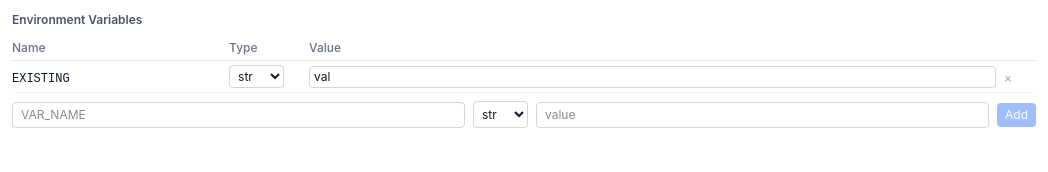
it: EnvVarEditor › adding a variable › shows duplicate name error
Type "EXISTING" into the field with test id "env-var-add-name" at (238, 114), box [12,102,465,128]
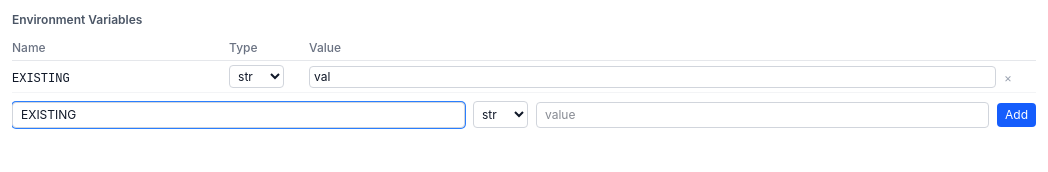
Click the button with test id "env-var-add-btn" at (1016, 114), box [997,102,1036,126]
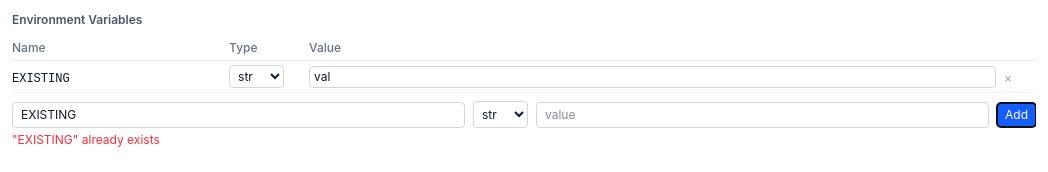
Expected: the text with test id "env-var-dup-error" reads "\"EXISTING\" already exists", [12,132,160,147]
